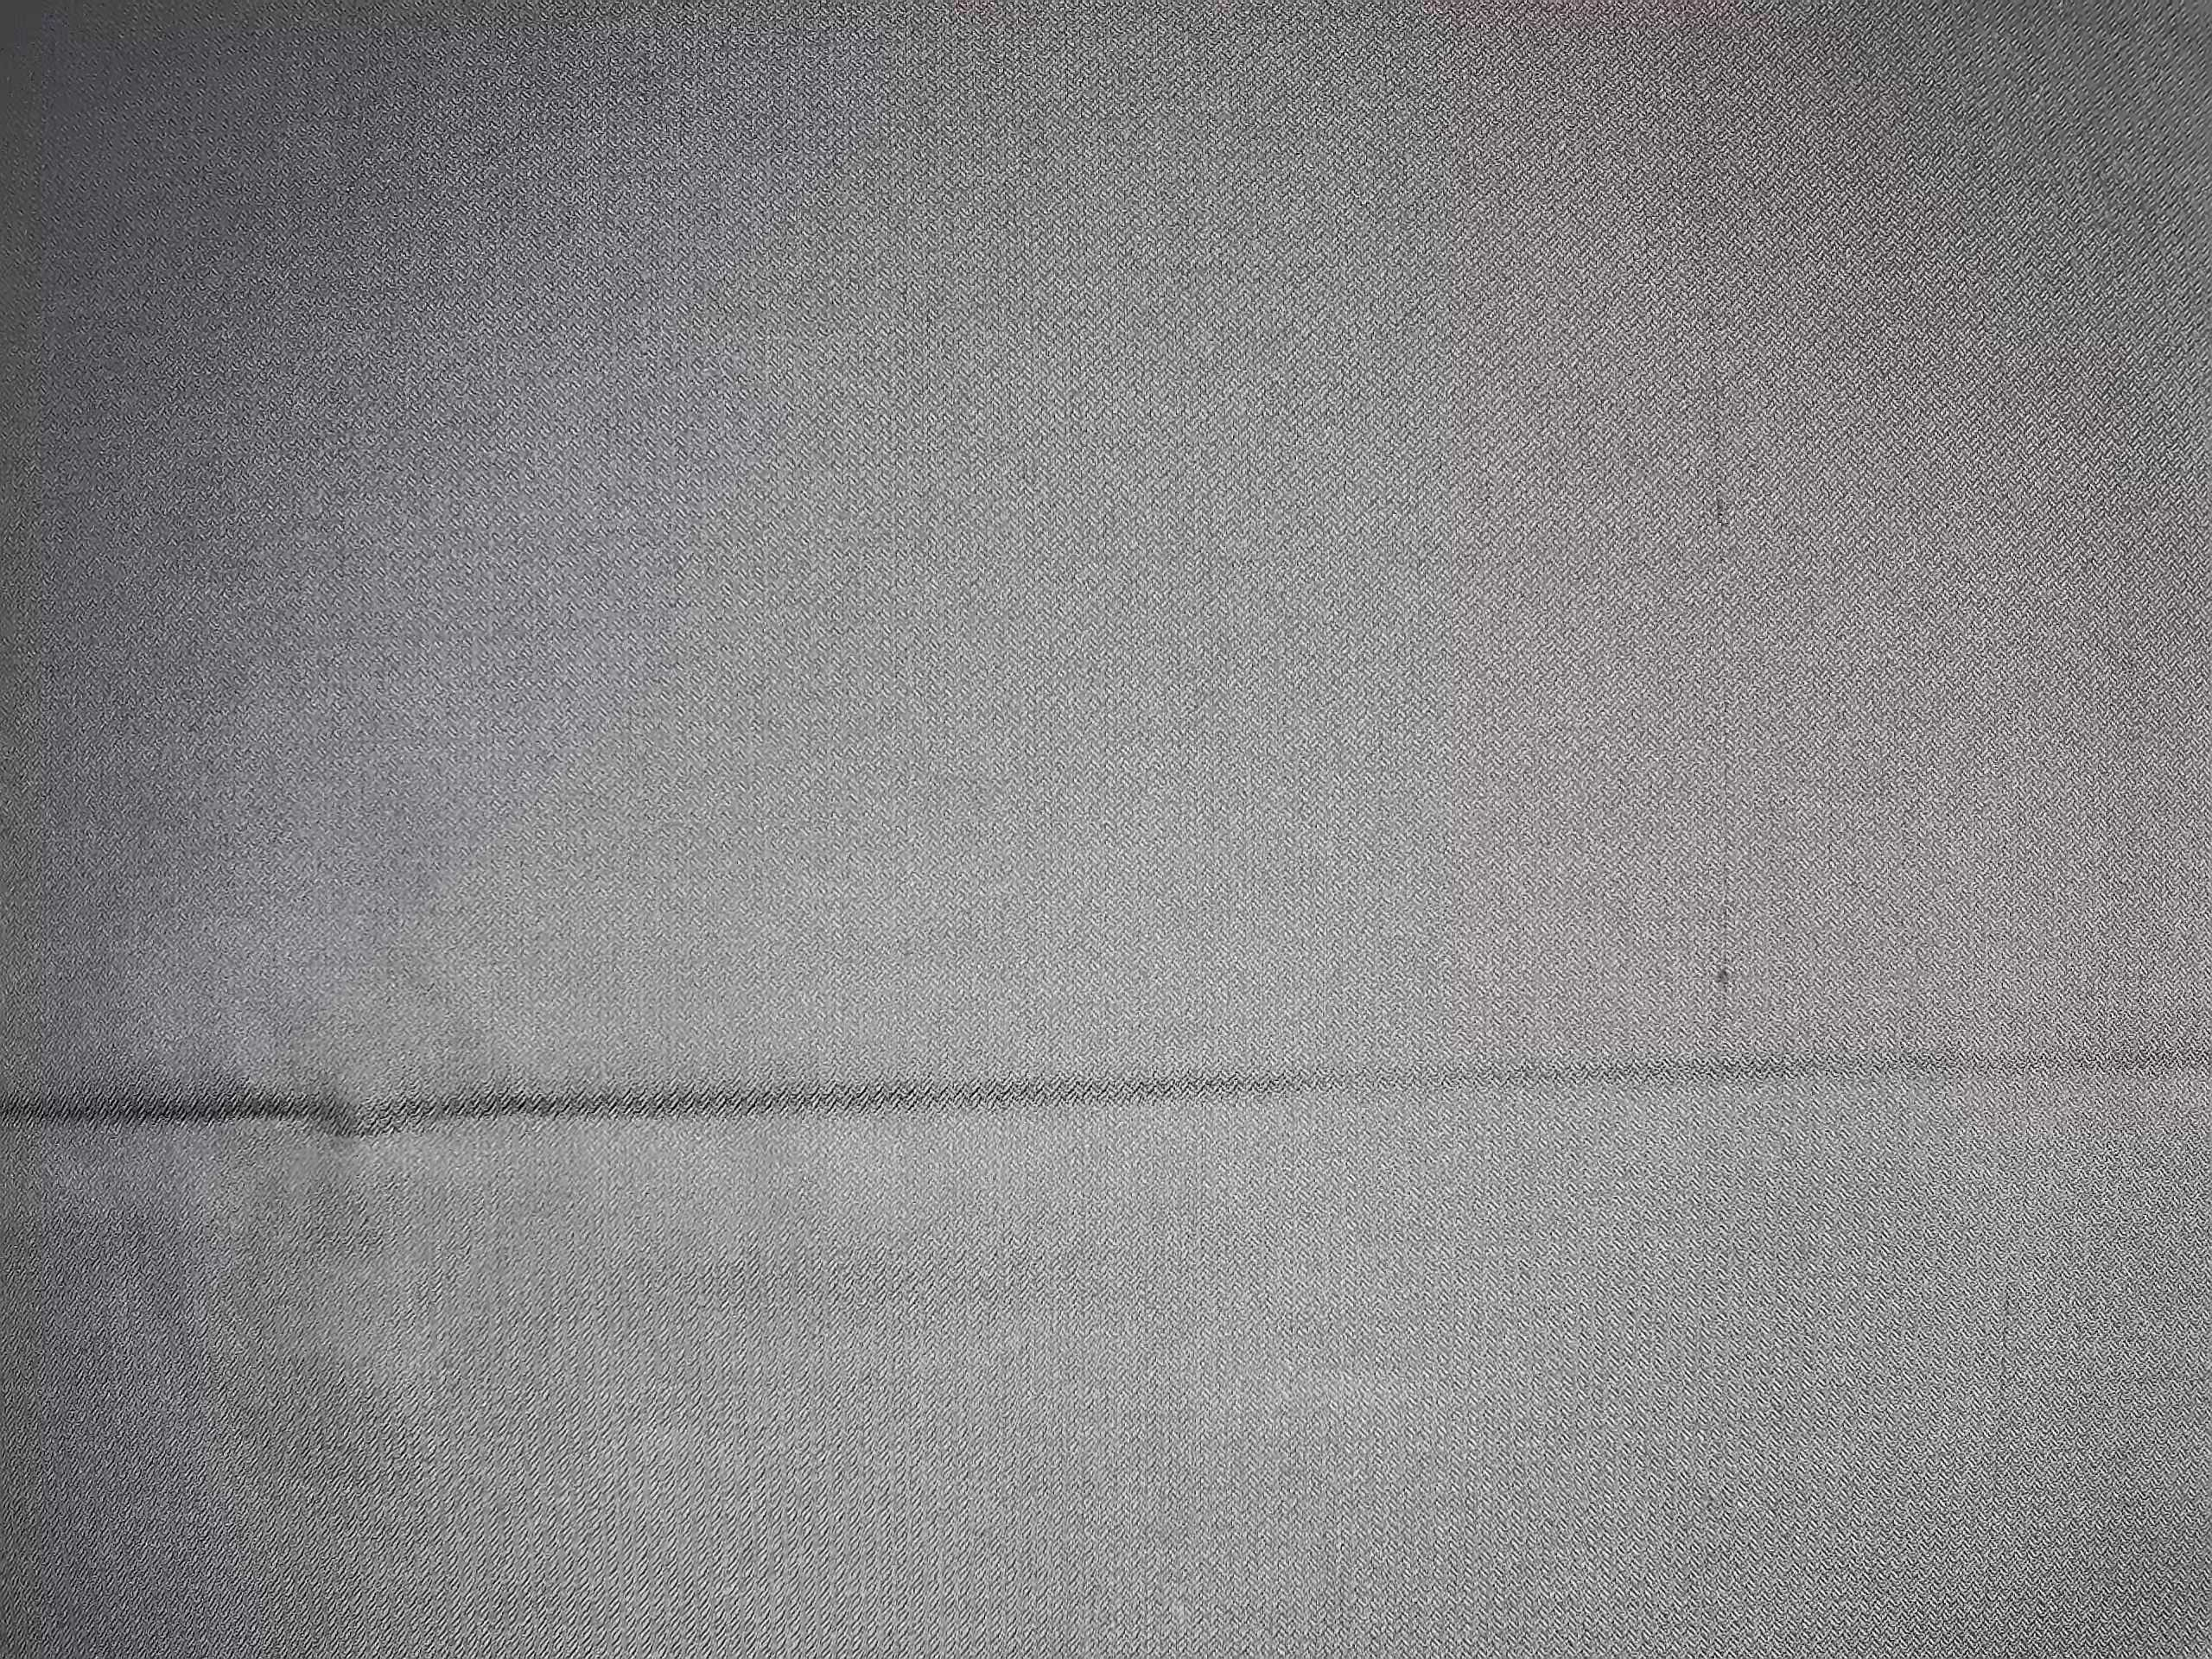hanging-warp: (1695, 308, 1756, 1019)
